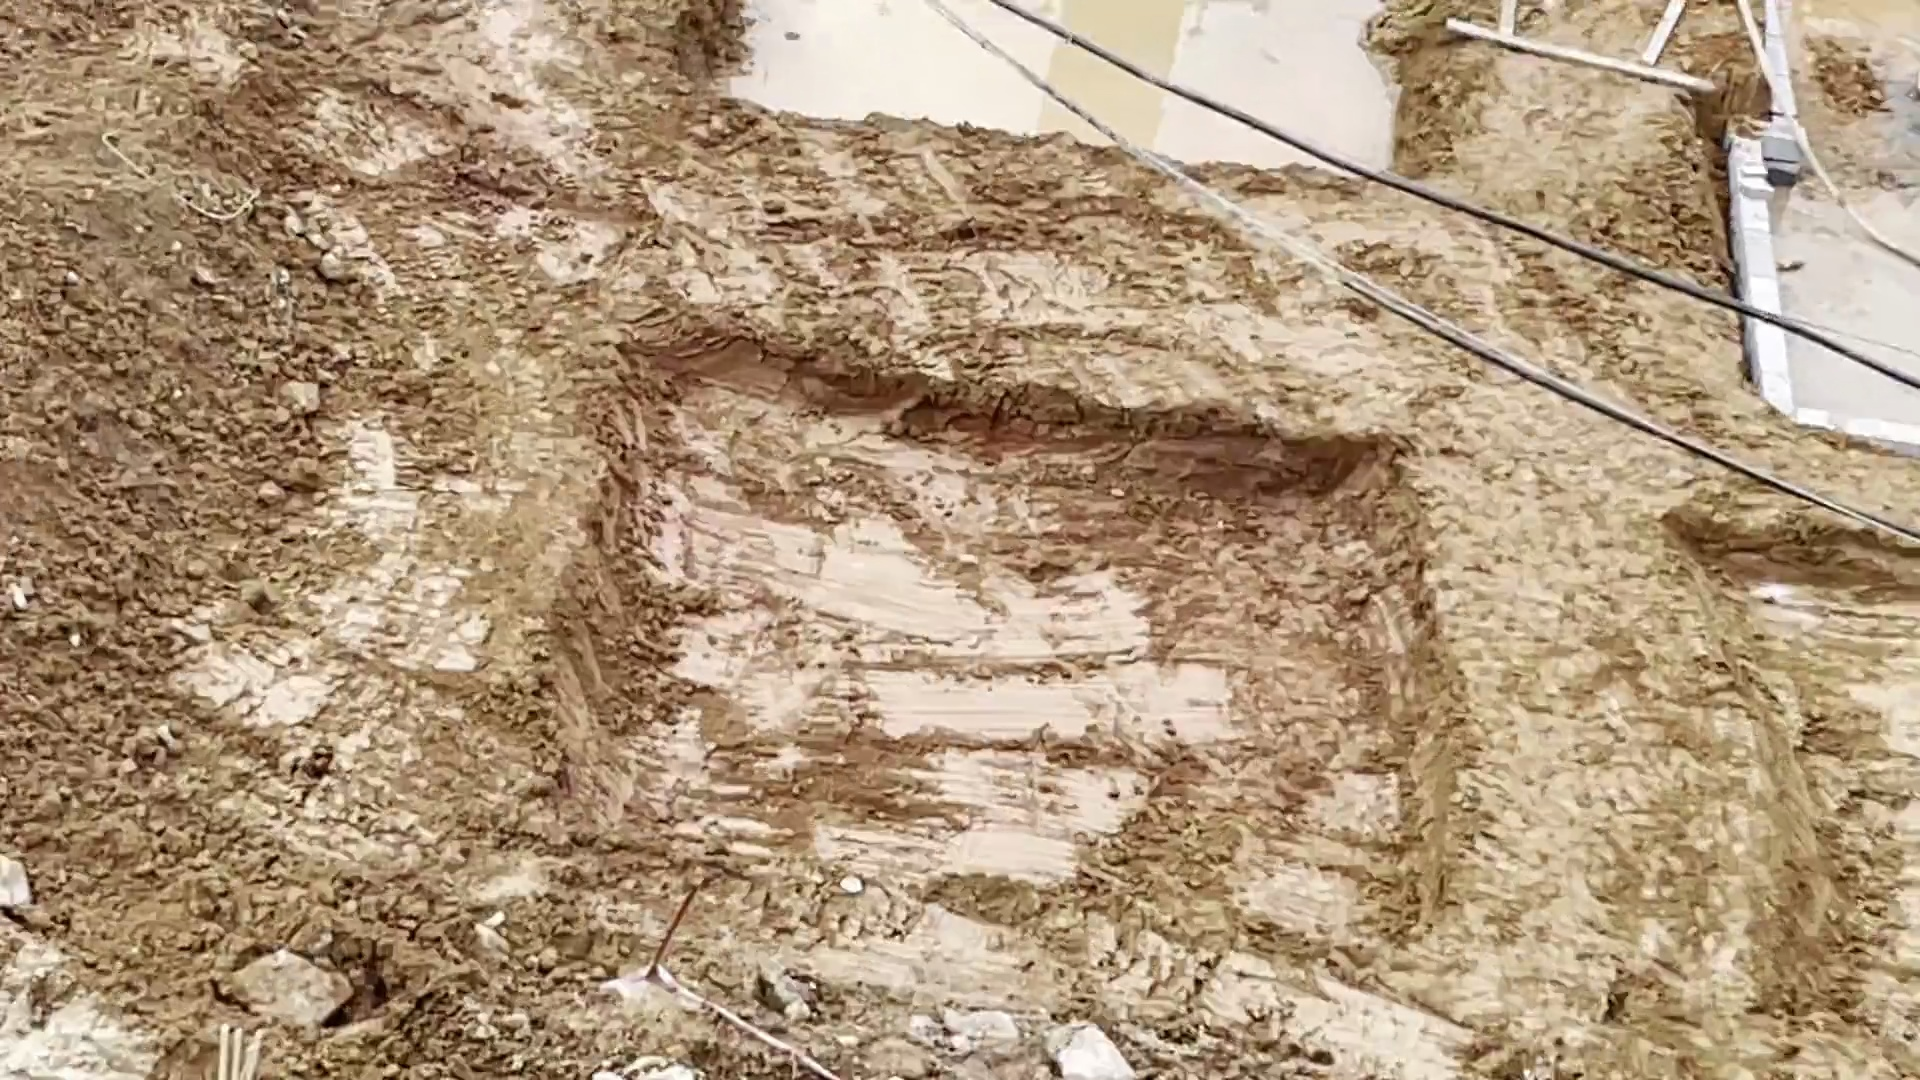brick: (1733, 136, 1791, 406), (1793, 404, 1920, 458), (1763, 5, 1803, 149)
